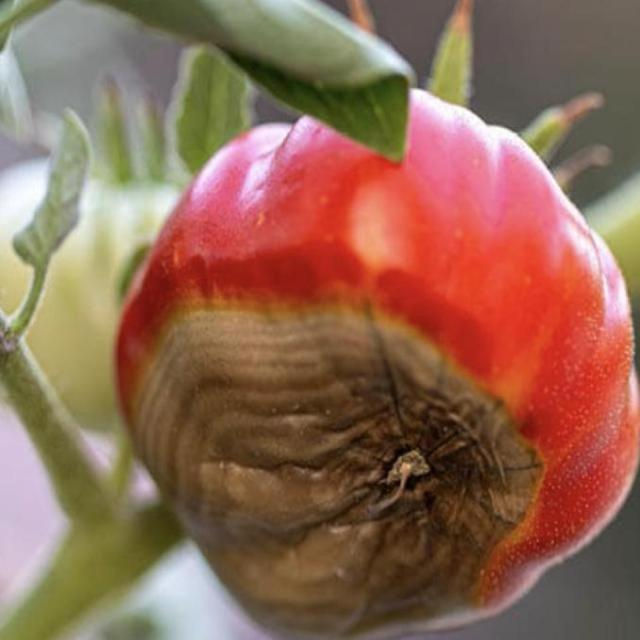Blossom End Rot Fruit: (88, 197, 362, 426)
